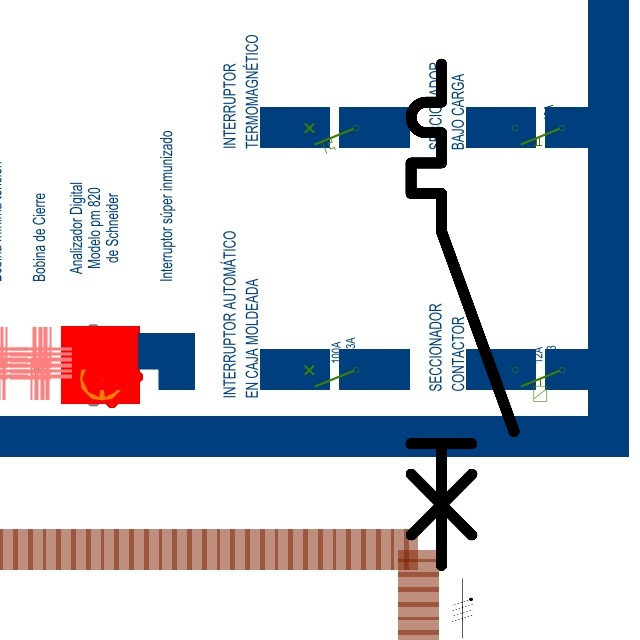interruptor_termomagnetico: (398, 51, 527, 578)
